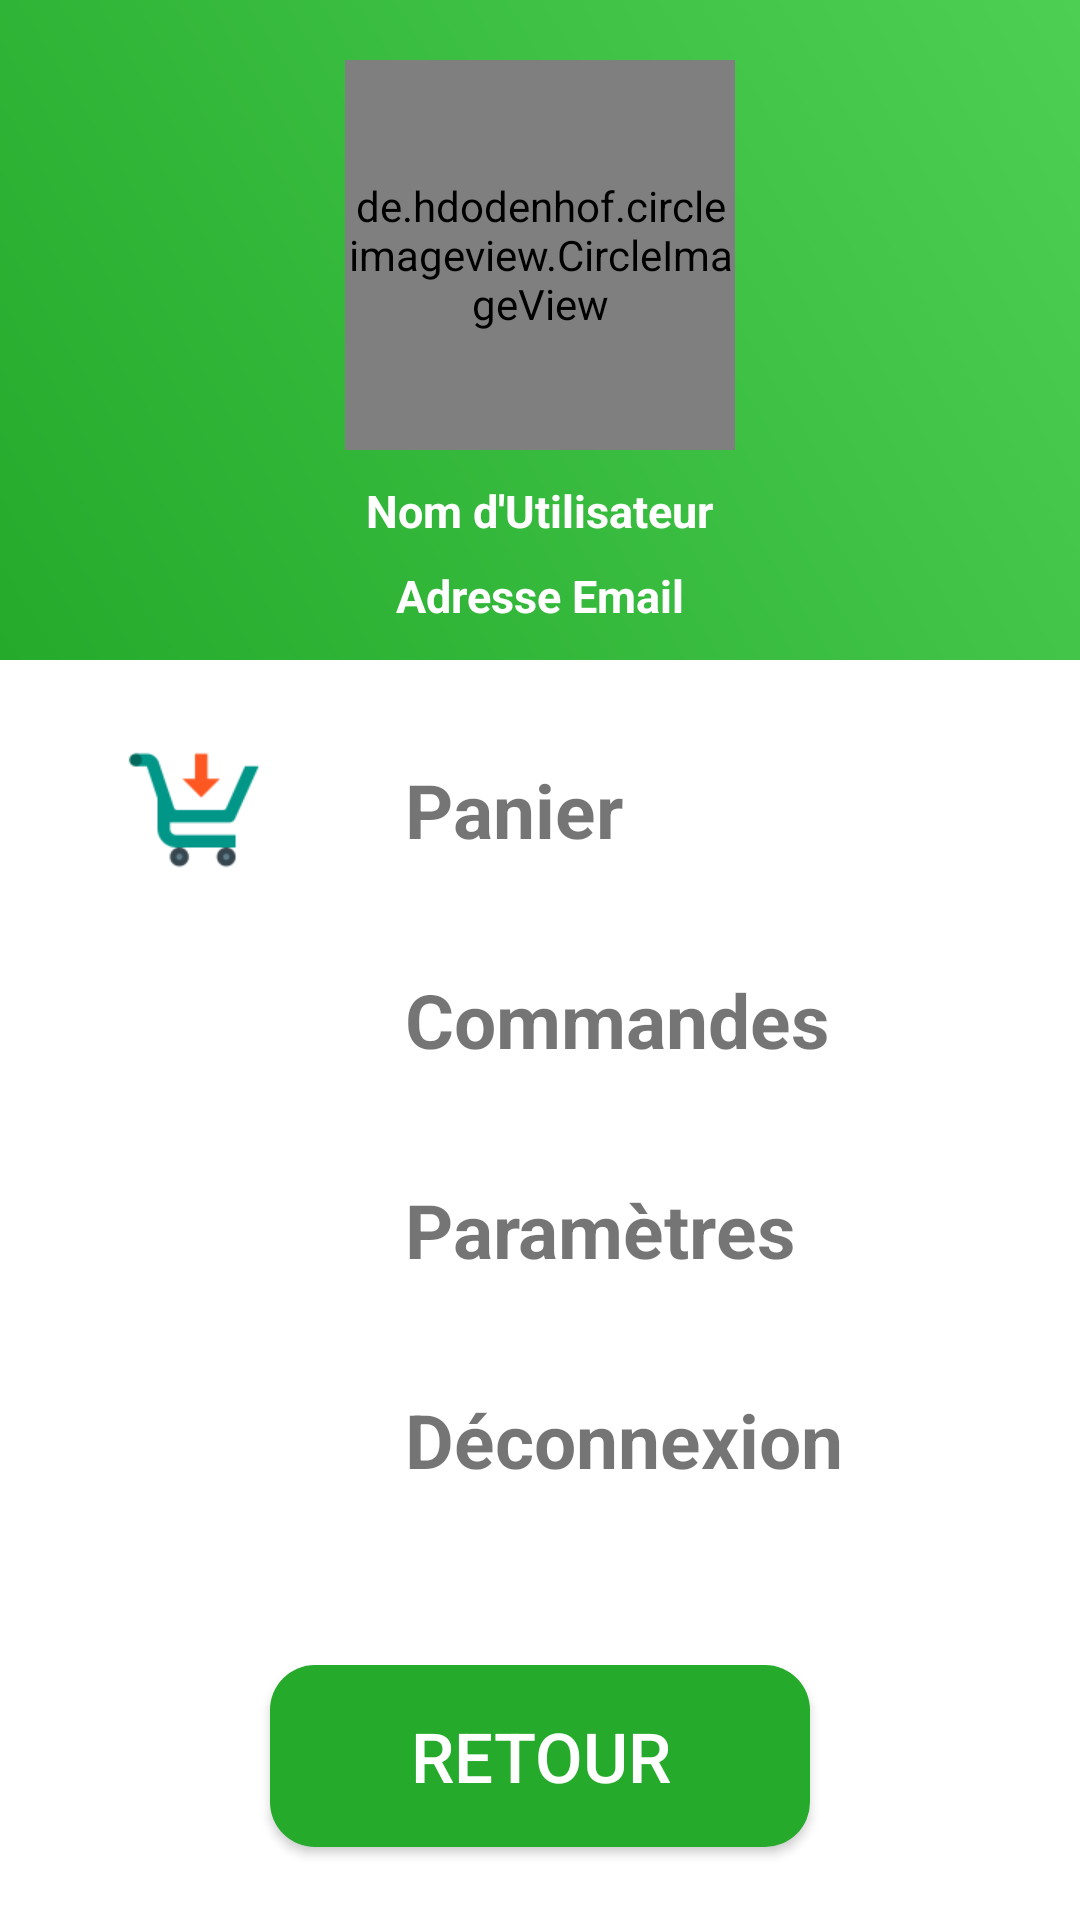

Icons on this 1080×1920 Android screen, each with the point to tap as (x,y):
add cart: (193,809)
